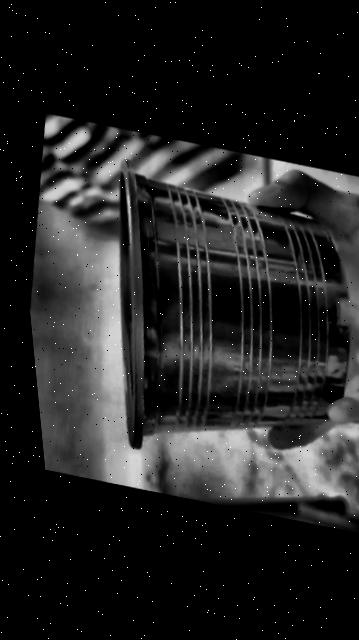pot: (118, 161, 347, 447)
